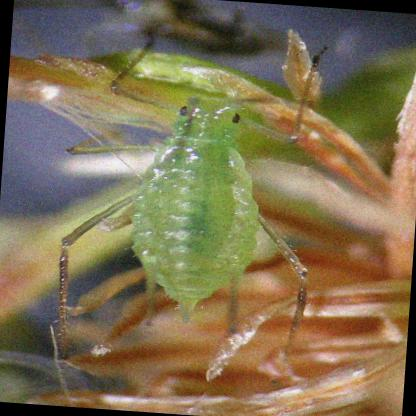uroleucon compositae: (129, 96, 262, 333)
